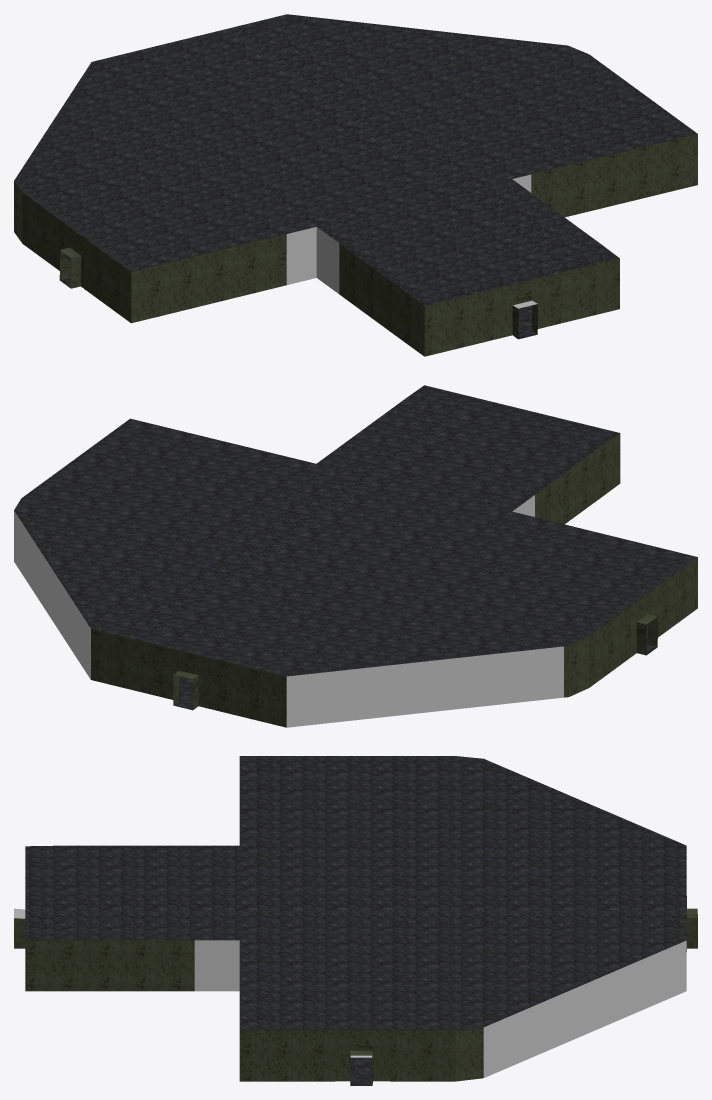
Rendered from Bio_Lab_textured.fbx.
The picture shows the model from 3 angles, top to bottom: view 1: azimuth 30°, elevation 25°; view 2: azimuth 150°, elevation 25°; view 3: azimuth 270°, elevation 25°; orthographic projection.
Parts seen in each view (by area): view 1: Bio_Lab; view 2: Bio_Lab; view 3: Bio_Lab.
Boxes of the visible parts, left/top/right/bottom form: Bio_Lab: left=14, top=14, right=697, bottom=356; Bio_Lab: left=14, top=385, right=697, bottom=727; Bio_Lab: left=14, top=756, right=697, bottom=1085.
Bounding box in the file's own units: 6000 × 503 × 6100.
